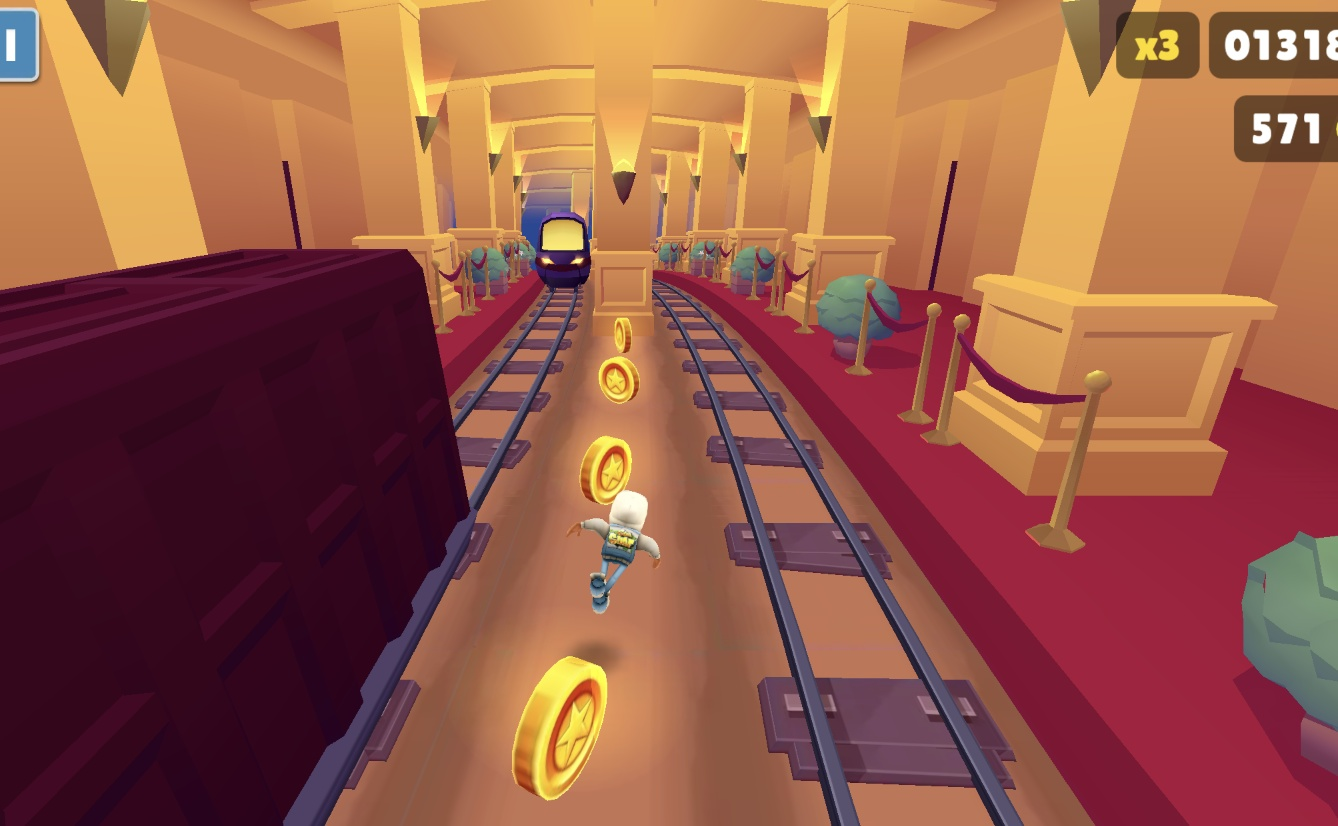pillar: (589, 0, 657, 337)
train: (0, 240, 462, 826), (534, 212, 592, 289)
